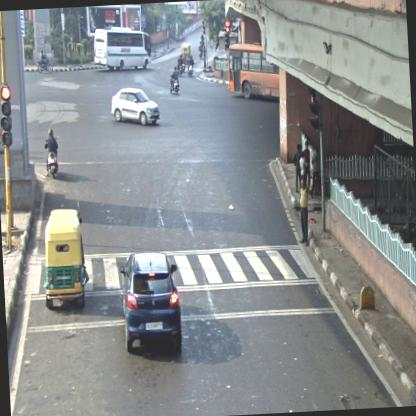bus: (225, 38, 280, 106)
car: (119, 248, 184, 354), (110, 86, 160, 128)
motorcycle: (43, 126, 60, 183), (36, 48, 53, 73), (167, 65, 180, 95), (186, 55, 194, 76)
